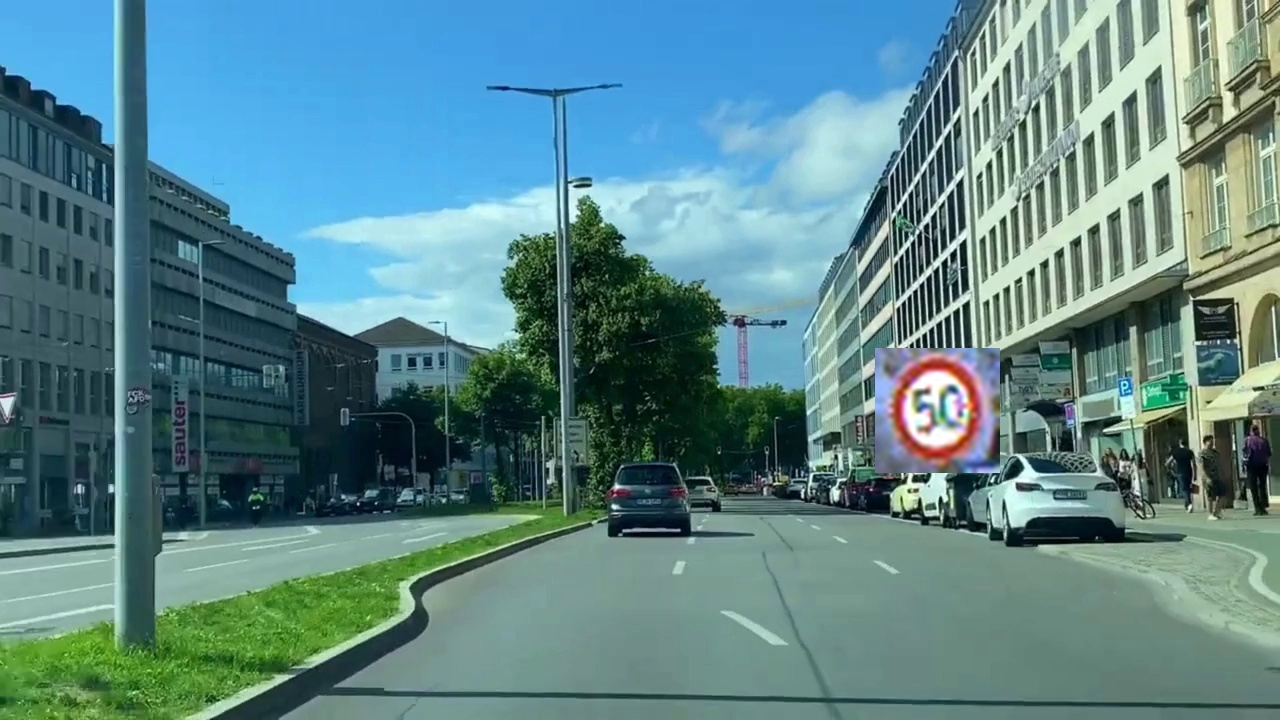Speed 50: (875, 348, 1000, 473)
